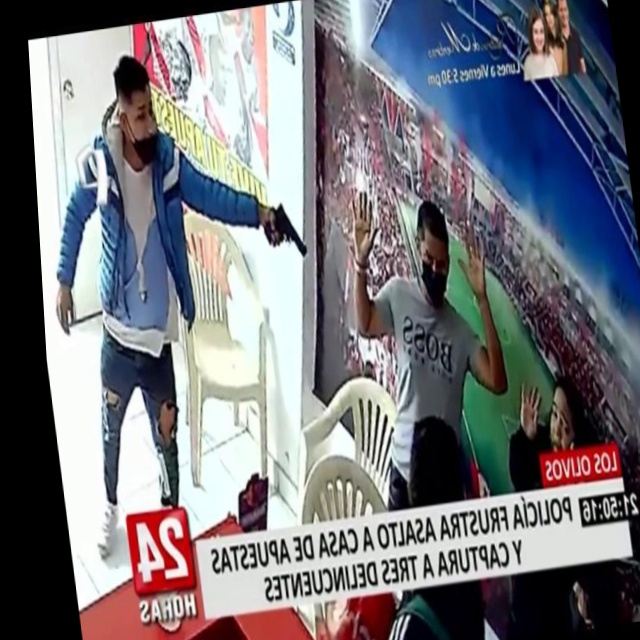gun: (256, 184, 314, 273)
